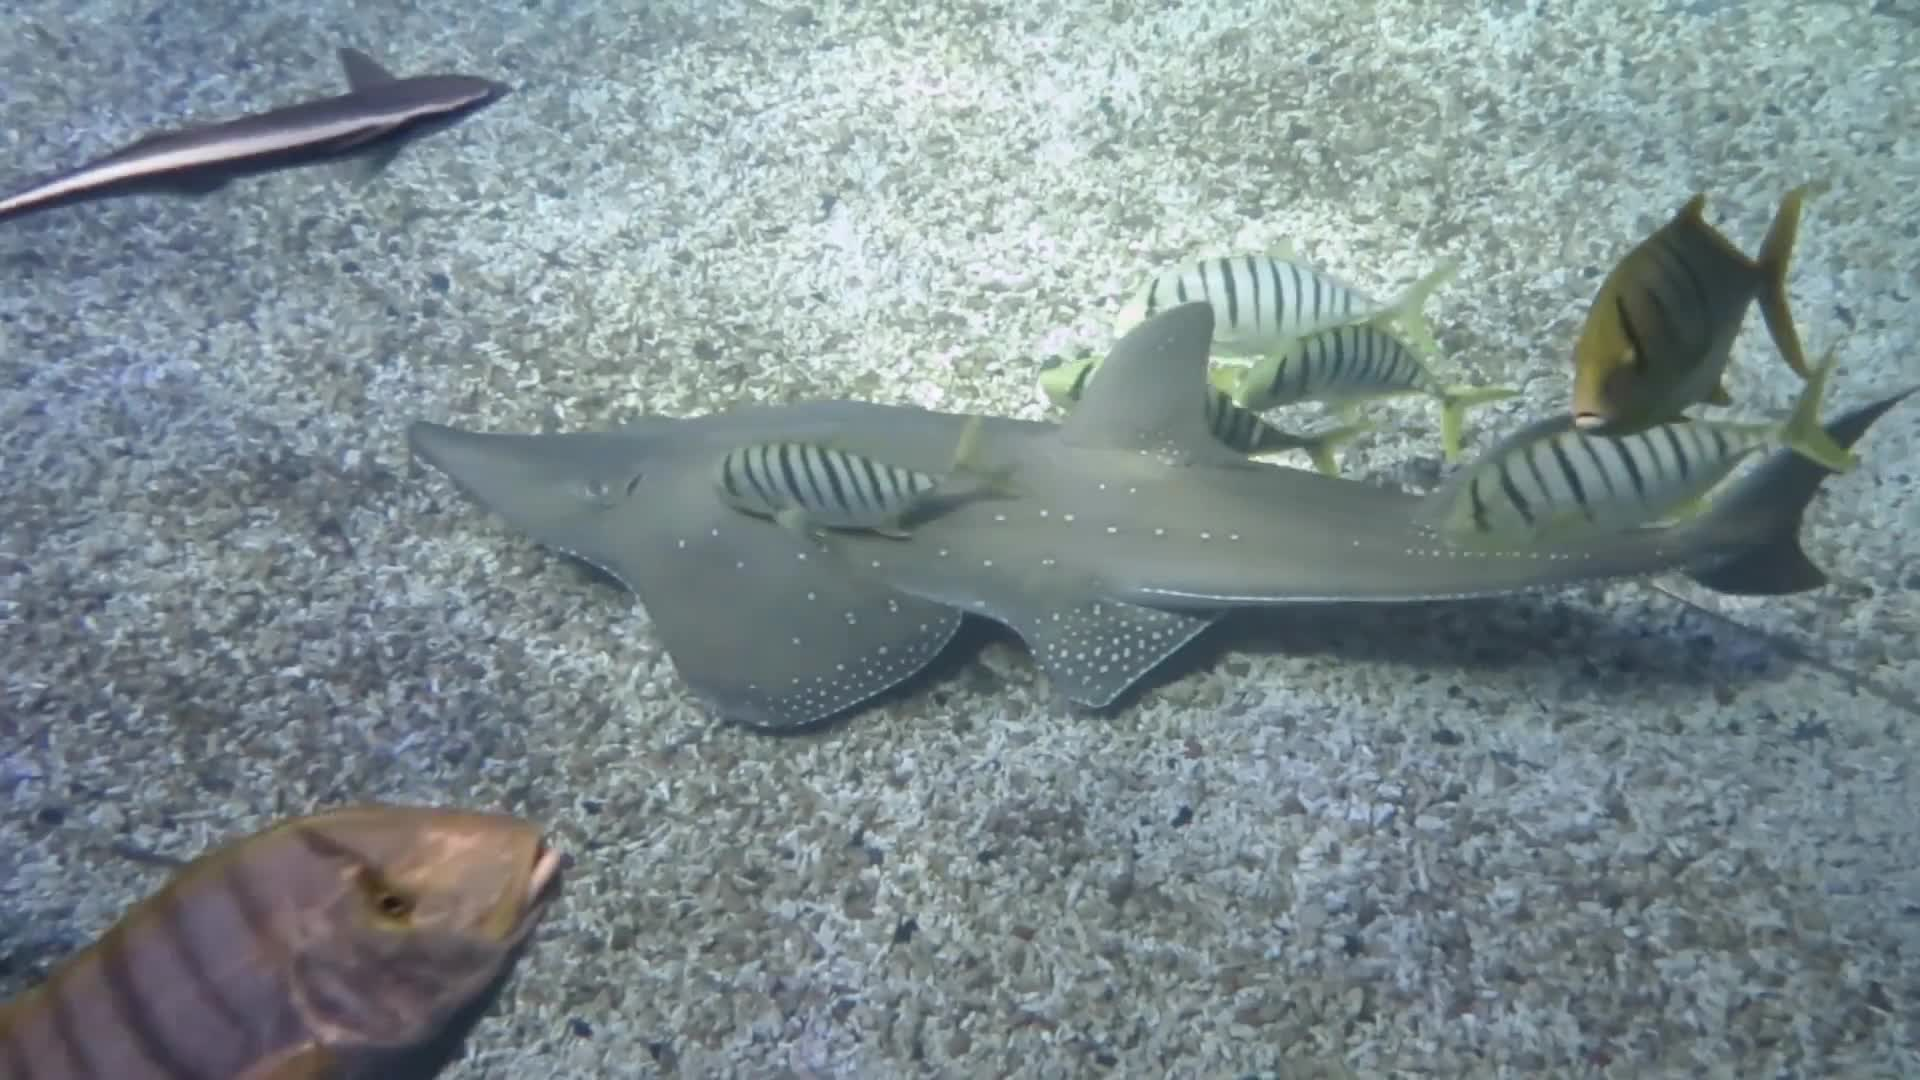Rhychobatus djiddensis: (345, 311, 1920, 738)
